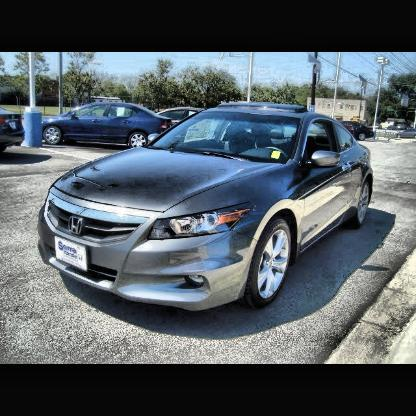Honda Accord Coupe 2012: (40, 105, 375, 314)
